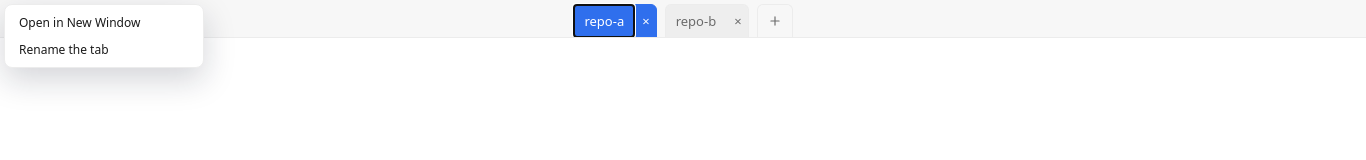
Test: RepoTabs › commits the rename on Enter
Click the menu item "Rename the tab" at (104, 50), box x1=9 y1=36 x2=199 y2=63
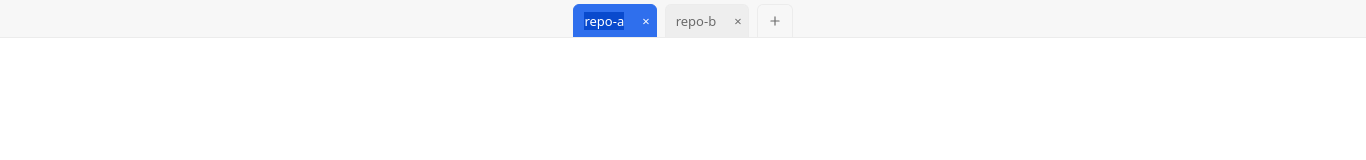
Clear the field named "Rename repo-a" at (604, 21), box x1=574 y1=5 x2=634 y2=37
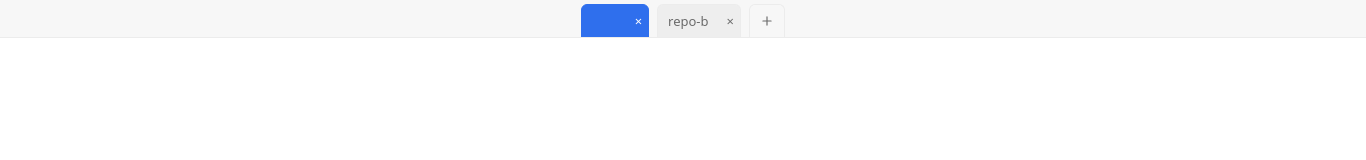
Type "Alpha" into the field named "Rename repo-a" at (604, 21), box x1=582 y1=5 x2=627 y2=37
Then press Enter
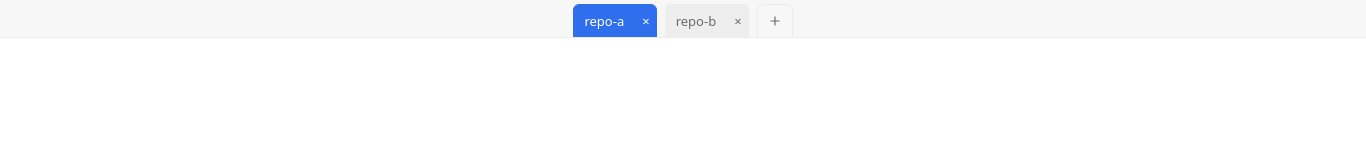
Expected: the field is gone
